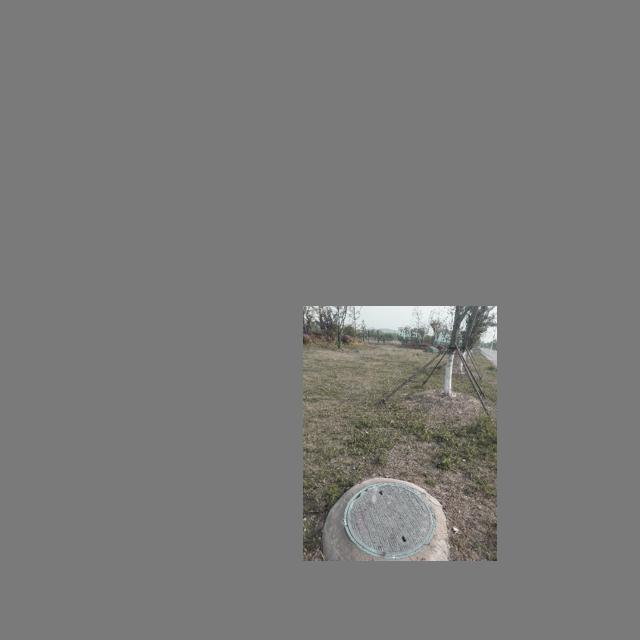good: (342, 481, 434, 561)
